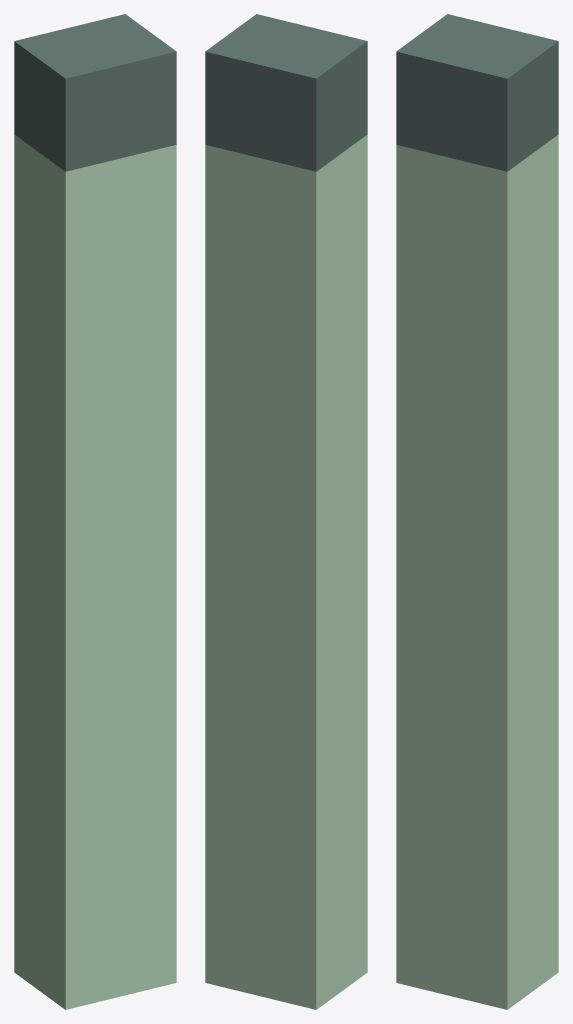
File: Wall4mHalfmWidth.fbx
3 renders of one model, left to right at view 1: azimuth 30°, elevation 25°; view 2: azimuth 150°, elevation 25°; view 3: azimuth 330°, elevation 25°, orthographic.
Visible parts, largest first — view 1: Wall4mHalfmWidth; view 2: Wall4mHalfmWidth; view 3: Wall4mHalfmWidth.
Part boxes in pixels (x1=…): Wall4mHalfmWidth: x1=14, y1=14, x2=176, y2=1009; Wall4mHalfmWidth: x1=205, y1=14, x2=367, y2=1009; Wall4mHalfmWidth: x1=396, y1=14, x2=558, y2=1009.
Size of the model in its own units: 0.5 by 4 by 0.4.
